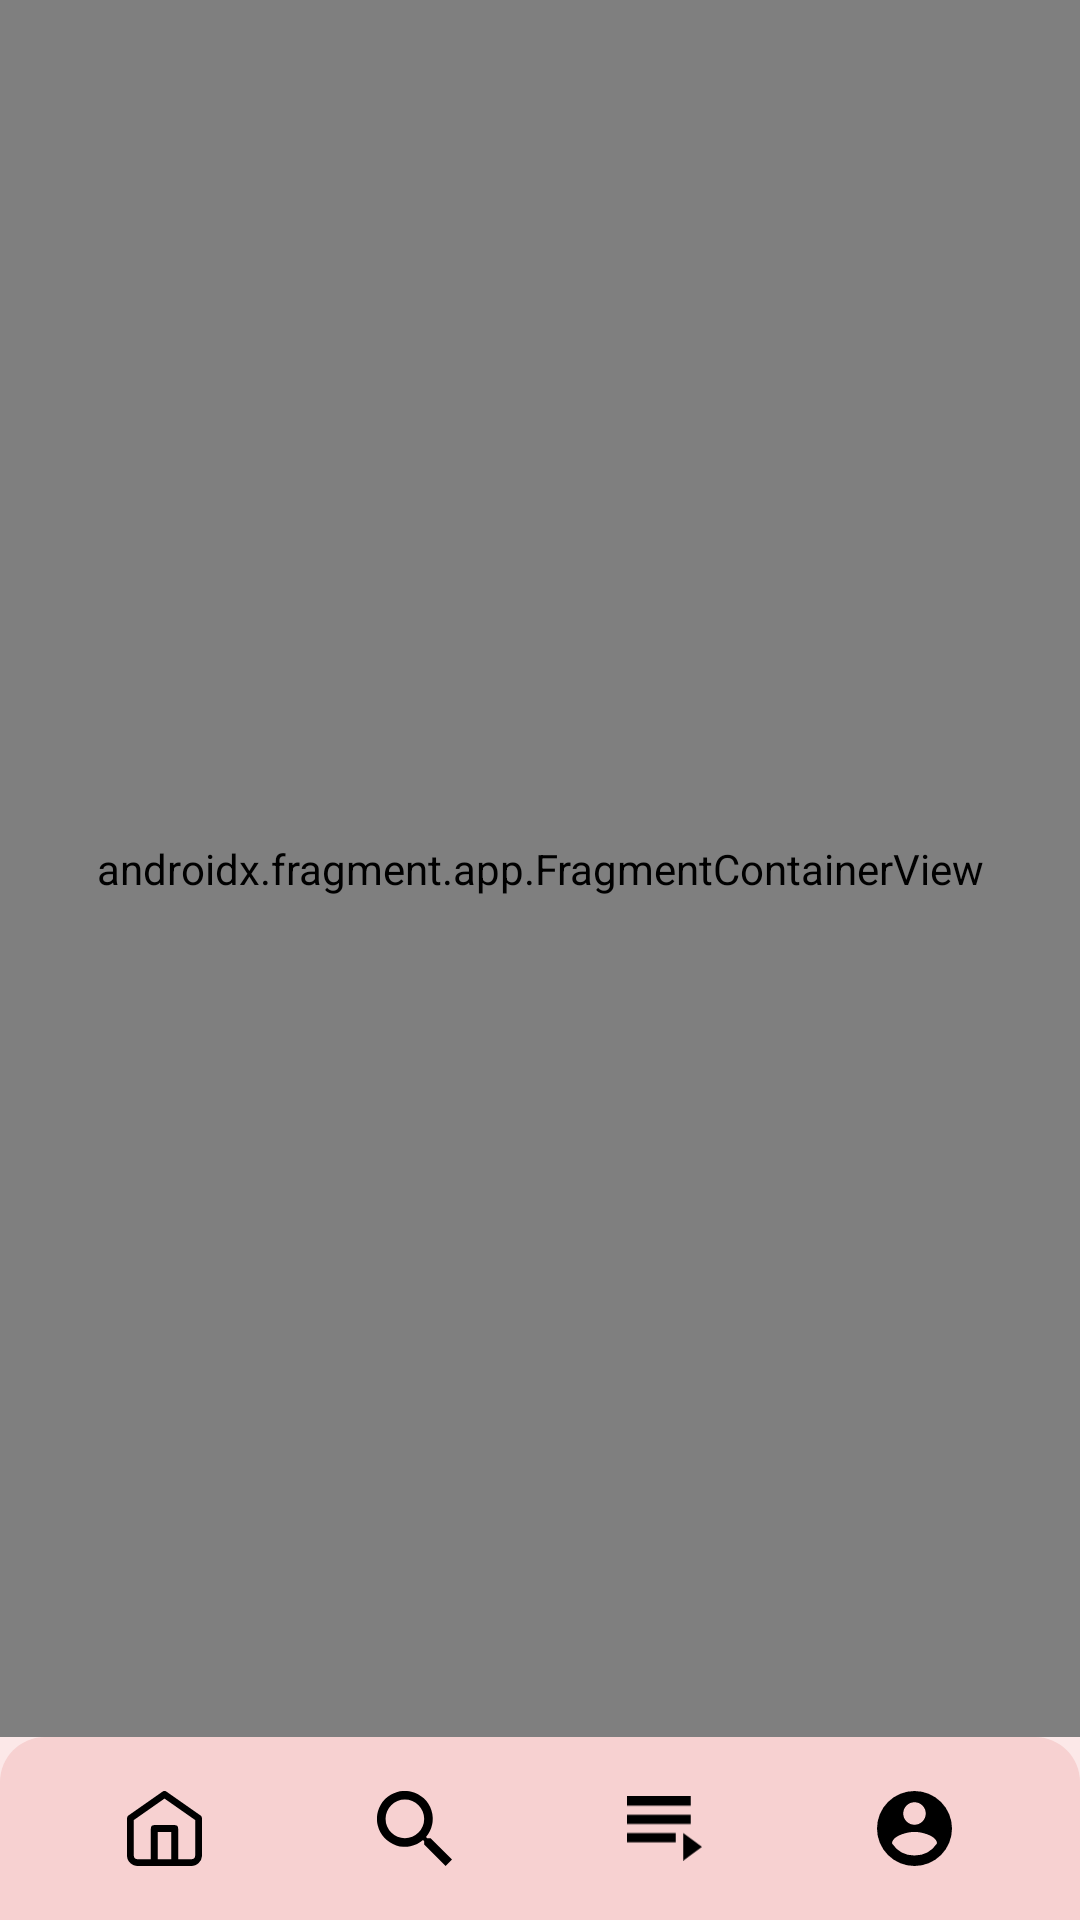

Named icons in this screenshot (1080px×1920px) and their bounding boxes, (x1=x1, y1=y1, x2=x2, y2=y2):
account: (x1=877, y1=1791, x2=952, y2=1866)
home: (x1=127, y1=1791, x2=202, y2=1866)
playlist: (x1=627, y1=1796, x2=702, y2=1861)
search: (x1=377, y1=1791, x2=452, y2=1866)
